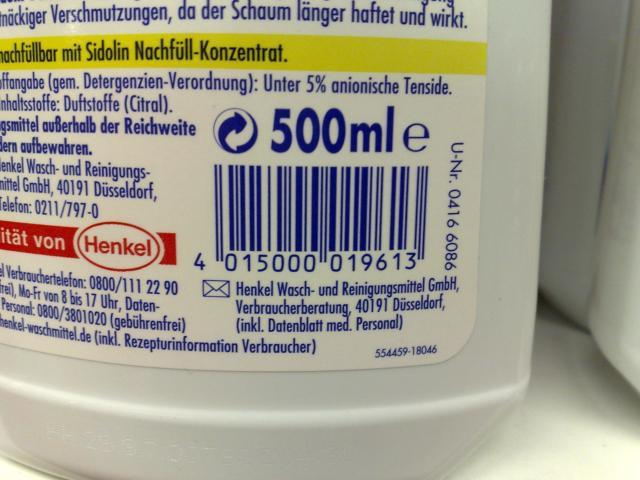Barcode: (187, 160, 433, 277)
